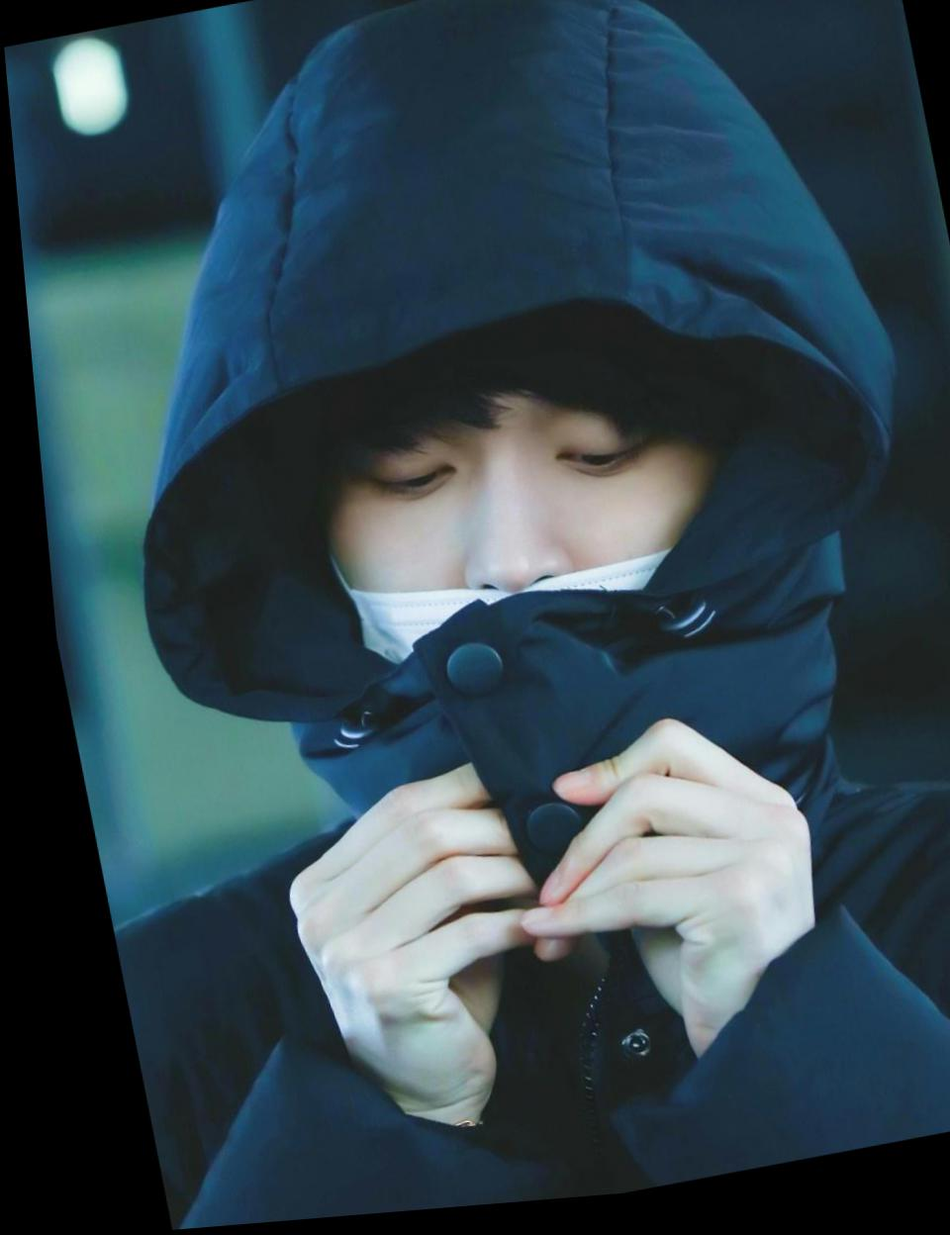WRONG: (284, 348, 778, 863)
